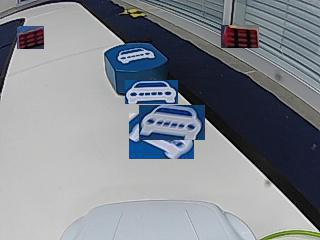safety: (117, 47, 155, 63)
